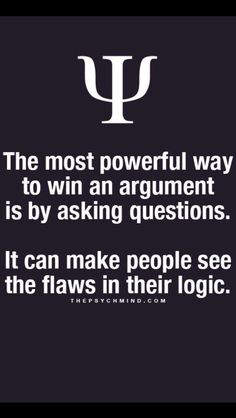latin: (2, 149, 234, 224), (3, 248, 232, 297)
